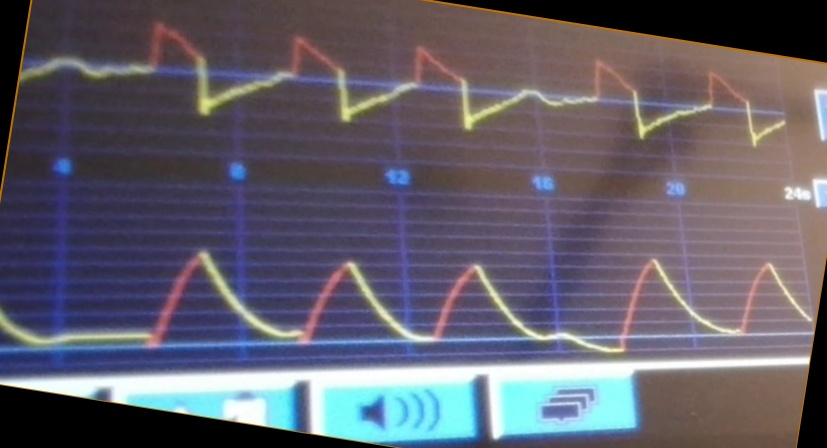Ineffective_effort Flow: (26, 17, 783, 146)
Ineffective_effort Volume: (2, 235, 811, 354)
